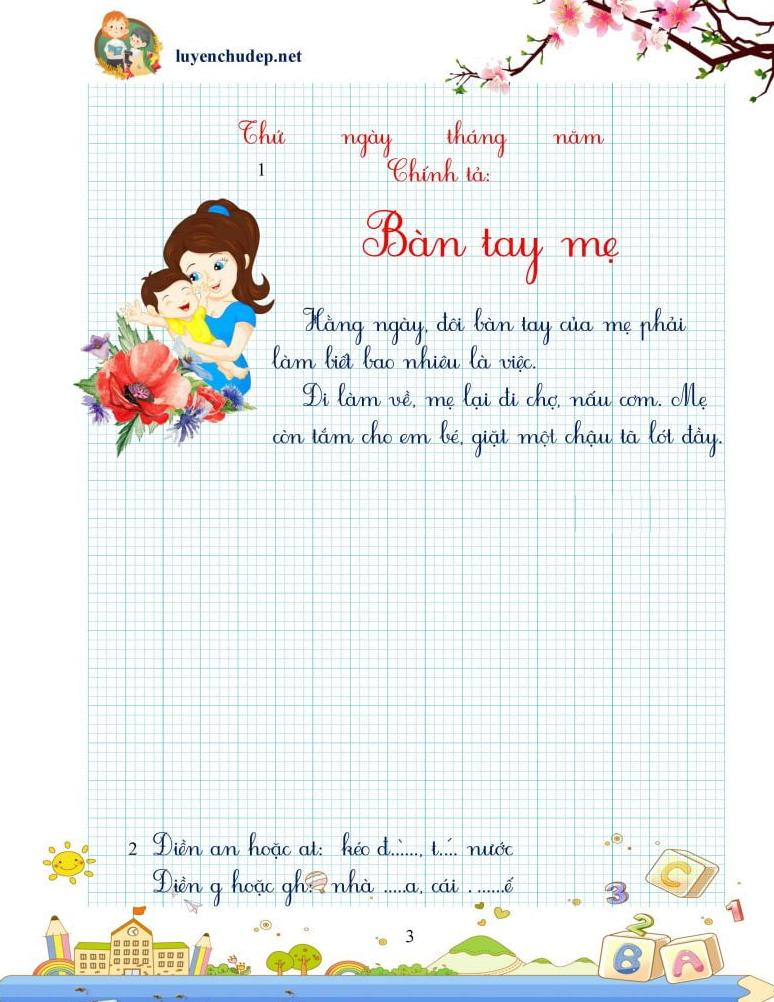text: (358, 201, 624, 289), (271, 416, 723, 462), (300, 302, 688, 349), (148, 865, 517, 908), (300, 378, 713, 410), (122, 830, 518, 860), (268, 344, 541, 373), (382, 156, 494, 188), (440, 117, 510, 159), (171, 48, 302, 67), (337, 126, 395, 159), (234, 117, 286, 148), (551, 128, 606, 148), (254, 159, 268, 179)
